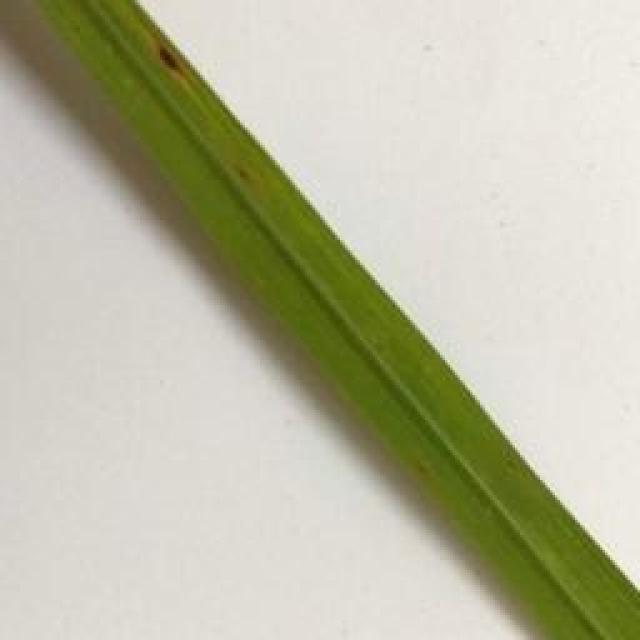Brown_Spot: (148, 32, 192, 84), (230, 150, 260, 191), (410, 457, 433, 485)
